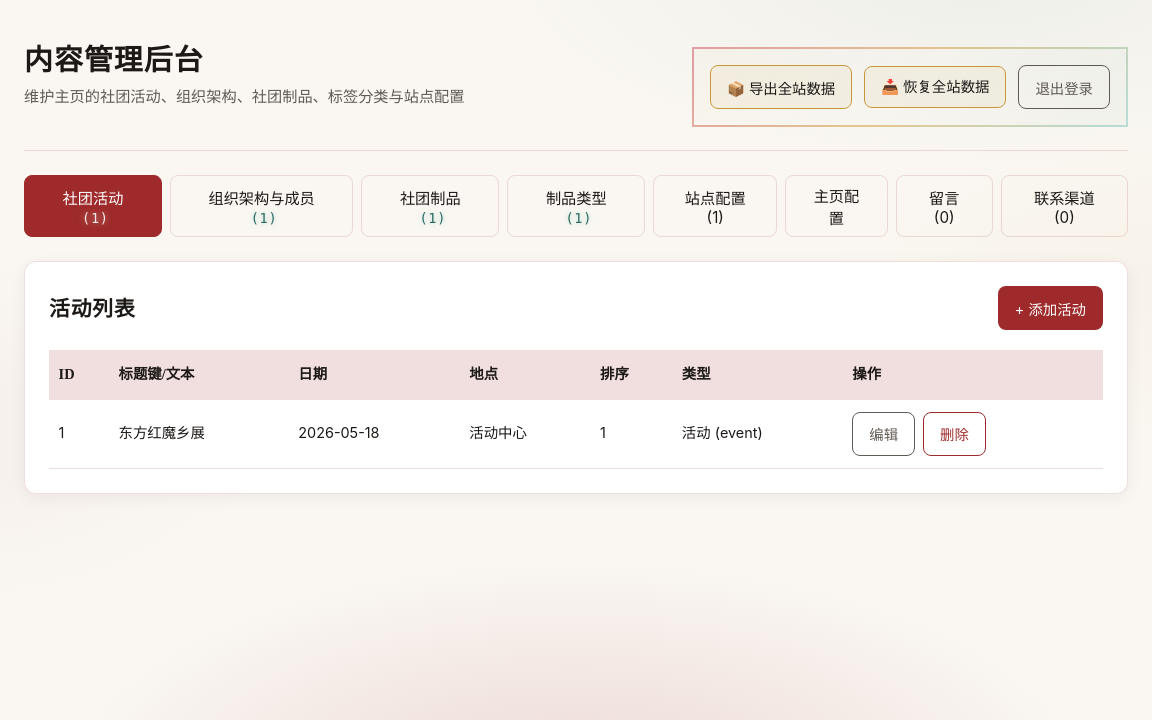
it: Admin dashboard › renders list when token exists
Expected: the heading "内容管理后台" is shown, [24, 44, 204, 76]
Expected: the text "东方红魔乡展" is shown, [109, 399, 289, 468]
// Switch to products tab
Step 1. Click the button "社团制品 (1)" → (430, 206), box [361, 175, 499, 237]
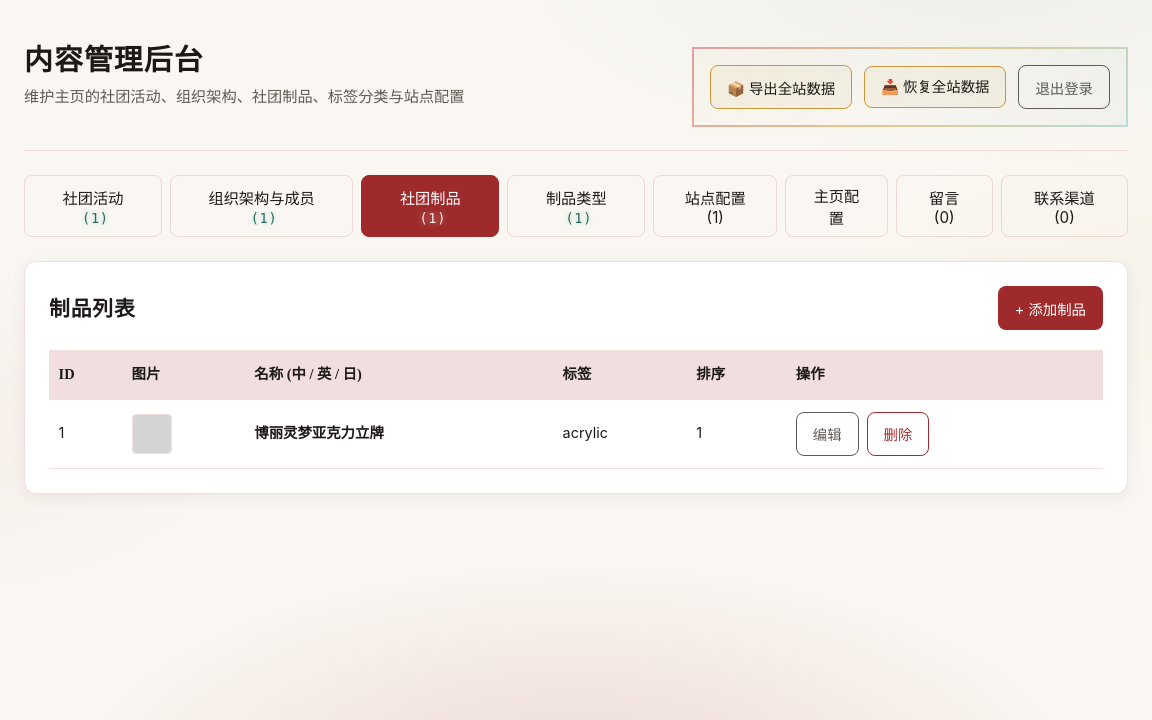
Now the text "博丽灵梦亚克力立牌" is shown, box [254, 424, 384, 441]
Now the button "+ 添加制品" is shown, box [998, 286, 1103, 330]
// Switch to product-tags tab
Step 2. Click the button "制品类型 (1)" → (576, 206), box [507, 175, 645, 237]
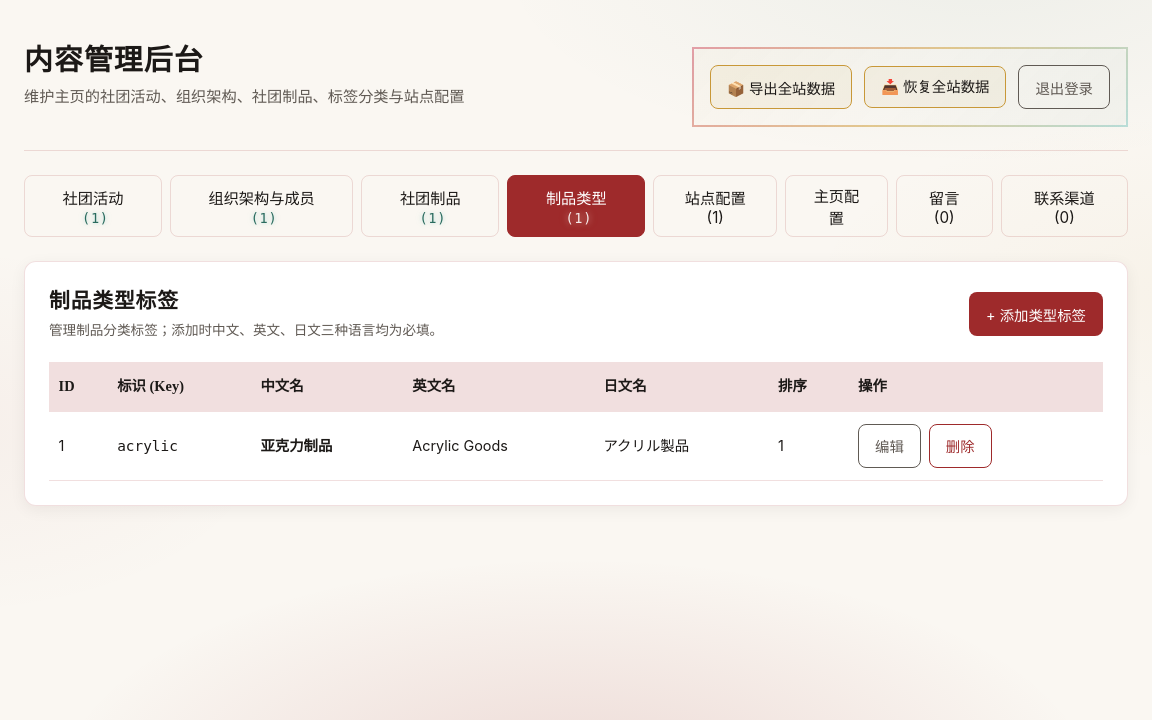
Now the text "亚克力制品" is shown, box [260, 437, 332, 454]
Now the button "+ 添加类型标签" is shown, box [969, 292, 1103, 336]
